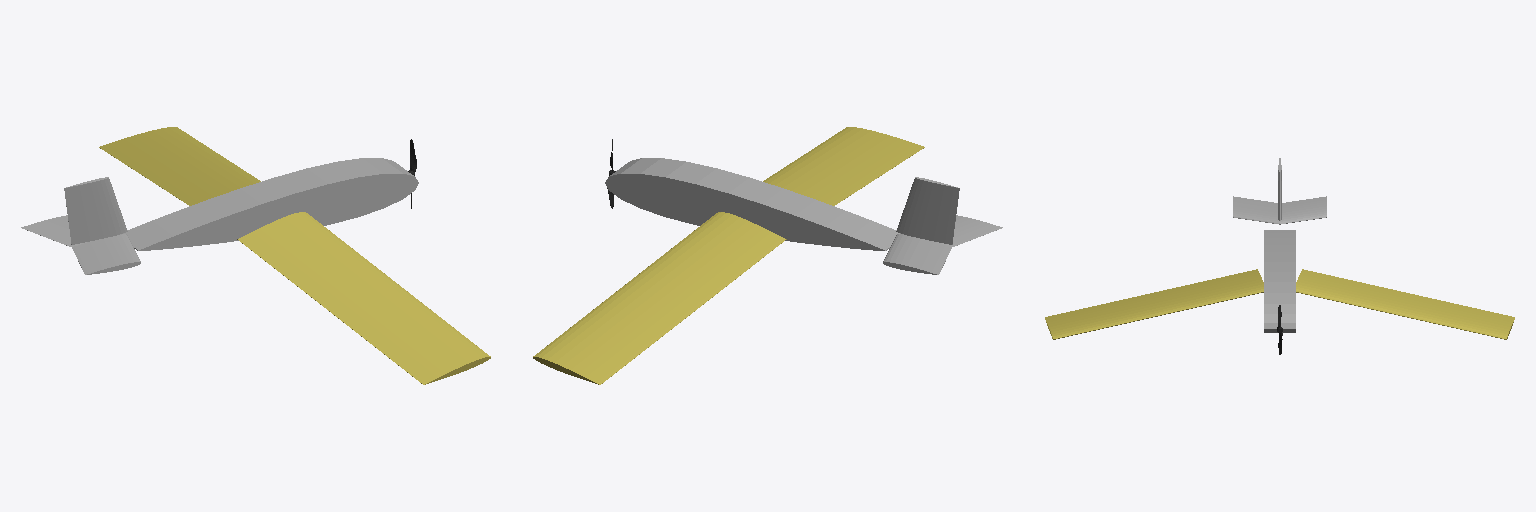
robot.urdf — drone_ea:
<robot name="drone_ea">
 <material name="grey">
  <color rgba="0.7 0.7 0.7 1" />
 </material>
 <material name="red">
  <color rgba="0.796078431372549 0.7490196078431373 0.37254901960784315 1" />
 </material>
 <material name="black">
  <color rgba="0.2 0.2 0.2 1" />
 </material>
 <link name="root_link">
  <inertial>
   <origin rpy="0 0 0" xyz="0 0 0" />
   <mass value="0" />
   <inertia ixx="0" ixy="0" ixz="0" iyy="0" iyz="0" izz="0" />
  </inertial>
 </link>
 <joint name="fixed_joint_base_fuselage" type="fixed">
  <parent link="root_link" />
  <child link="fuselage" />
  <origin rpy="3.141592653589793 0 0" xyz="0 0 0" />
 </joint>
 <link name="fuselage">
  <inertial>
   <origin rpy="0 0 0" xyz="-0.344 0 0" />
   <mass value="0.55" />
   <inertia ixx="0.00029015955" ixy="0" ixz="0" iyy="0.0074080147" iyz="0" izz="0.0074511885" />
  </inertial>
  <visual>
   <origin rpy="0 0 0" xyz="0 0 0" />
   <geometry>
    <mesh filename="package://ros_muav/meshes/fuselage0014_tail0009.stl" scale="0.001 0.001 0.001" />
   </geometry>
   <material name="grey" />
  </visual>
 </link>
 <joint name="fixed_joint_aero_frame_fuselage" type="fixed">
  <parent link="fuselage" />
  <child link="aero_frame_fuselage" />
  <origin rpy="0 3.141592653589793 0" xyz="-0.344 0 0" />
 </joint>
 <link name="aero_frame_fuselage" />
 <joint name="fixed_joint_right_wing" type="fixed">
  <parent link="fuselage" />
  <child link="fuselage_right_0" />
  <origin rpy="-0.17453292519943295 -0.06981317007977318 3.0019663134302466" xyz="-0.35 0.05 0.01" />
 </joint>
 <link name="fuselage_right_0">
  <inertial>
   <mass value="0.018" />
   <origin rpy="0 0 0" xyz="0 0 0" />
   <inertia ixx="2.1333333333333334e-06" ixy="0" ixz="0" iyy="2.1333333333333334e-06" iyz="0" izz="2.1333333333333334e-06" />
  </inertial>
 </link>
 <joint name="joint_0_sweep_right_wing" type="revolute">
  <parent link="fuselage_right_0" />
  <child link="fuselage_right_1" />
  <origin rpy="0 0 0" xyz="0 0 0" />
  <axis xyz="0 0 1" />
  <limit effort="0.26" lower="-0.5235987755982988" upper="0.5235987755982988" velocity="5.393067388662478" />
  <dynamics damping="1" friction="0" />
 </joint>
 <link name="fuselage_right_1">
  <inertial>
   <mass value="0.023" />
   <origin rpy="0 0 0" xyz="0 0 0" />
   <inertia ixx="2.7259259259259264e-06" ixy="0" ixz="0" iyy="2.7259259259259264e-06" iyz="0" izz="2.7259259259259264e-06" />
  </inertial>
 </link>
 <joint name="joint_1_twist_right_wing" type="revolute">
  <parent link="fuselage_right_1" />
  <child link="fuselage_right_2" />
  <origin rpy="0 0 0" xyz="0 0 0" />
  <axis xyz="0 1 0" />
  <limit effort="0.46" lower="-0.5235987755982988" upper="0.5235987755982988" velocity="3.4033920413889422" />
  <dynamics damping="1" friction="0" />
 </joint>
 <link name="fuselage_right_2">
  <inertial>
   <mass value="0" />
   <origin rpy="0 0 0" xyz="0 0 0" />
   <inertia ixx="0" ixy="0" ixz="0" iyy="0" iyz="0" izz="0" />
  </inertial>
 </link>
 <joint name="joint_2_fixed_right_wing" type="fixed">
  <parent link="fuselage_right_2" />
  <child link="right_wing" />
  <origin rpy="0 0 0" xyz="0 0 0" />
  <axis xyz="0 0 0" />
 </joint>
 <link name="right_wing">
  <inertial>
   <origin rpy="0 0 0" xyz="0.034436664 -0.35000000000000003 0" />
   <mass value="0.05185104357599042" />
   <inertia ixx="0.0021182021866224007" ixy="0" ixz="0" iyy="0.00011484602924630402" iyz="0" izz="0.002231145645653761" />
  </inertial>
  <visual>
   <origin rpy="0 0 0" xyz="0 0 0" />
   <geometry>
    <mesh filename="package://ros_muav/meshes/wing0009.stl" scale="0.2 0.7000000000000001 0.2" />
   </geometry>
   <material name="red" />
  </visual>
 </link>
 <joint name="fixed_joint_aero_frame_right_wing" type="fixed">
  <parent link="right_wing" />
  <child link="aero_frame_right_wing" />
  <origin rpy="3.141592653589793 0 0" xyz="0.034436664 -0.35000000000000003 0" />
 </joint>
 <link name="aero_frame_right_wing" />
 <joint name="fixed_joint_left_wing" type="fixed">
  <parent link="fuselage" />
  <child link="fuselage_left_0" />
  <origin rpy="0.17453292519943295 3.2114058236695664 0.13962634015954636" xyz="-0.35 -0.05 0.01" />
 </joint>
 <link name="fuselage_left_0">
  <inertial>
   <mass value="0.018" />
   <origin rpy="0 0 0" xyz="0 0 0" />
   <inertia ixx="2.1333333333333334e-06" ixy="0" ixz="0" iyy="2.1333333333333334e-06" iyz="0" izz="2.1333333333333334e-06" />
  </inertial>
 </link>
 <joint name="joint_0_sweep_left_wing" type="revolute">
  <parent link="fuselage_left_0" />
  <child link="fuselage_left_1" />
  <origin rpy="0 0 0" xyz="0 0 0" />
  <axis xyz="0 0 1" />
  <limit effort="0.26" lower="-0.5235987755982988" upper="0.5235987755982988" velocity="5.393067388662478" />
  <dynamics damping="1" friction="0" />
 </joint>
 <link name="fuselage_left_1">
  <inertial>
   <mass value="0.023" />
   <origin rpy="0 0 0" xyz="0 0 0" />
   <inertia ixx="2.7259259259259264e-06" ixy="0" ixz="0" iyy="2.7259259259259264e-06" iyz="0" izz="2.7259259259259264e-06" />
  </inertial>
 </link>
 <joint name="joint_1_twist_left_wing" type="revolute">
  <parent link="fuselage_left_1" />
  <child link="fuselage_left_2" />
  <origin rpy="0 0 0" xyz="0 0 0" />
  <axis xyz="0 -1 0" />
  <limit effort="0.46" lower="-0.5235987755982988" upper="0.5235987755982988" velocity="3.4033920413889422" />
  <dynamics damping="1" friction="0" />
 </joint>
 <link name="fuselage_left_2">
  <inertial>
   <mass value="0" />
   <origin rpy="0 0 0" xyz="0 0 0" />
   <inertia ixx="0" ixy="0" ixz="0" iyy="0" iyz="0" izz="0" />
  </inertial>
 </link>
 <joint name="joint_2_fixed_left_wing" type="fixed">
  <parent link="fuselage_left_2" />
  <child link="left_wing" />
  <origin rpy="0 0 0" xyz="0 0 0" />
  <axis xyz="0 0 0" />
 </joint>
 <link name="left_wing">
  <inertial>
   <origin rpy="0 0 0" xyz="0.034436664 -0.35000000000000003 0" />
   <mass value="0.05185104357599042" />
   <inertia ixx="0.0021182021866224007" ixy="0" ixz="0" iyy="0.00011484602924630402" iyz="0" izz="0.002231145645653761" />
  </inertial>
  <visual>
   <origin rpy="0 0 0" xyz="0 0 0" />
   <geometry>
    <mesh filename="package://ros_muav/meshes/wing0009.stl" scale="0.2 0.7000000000000001 0.2" />
   </geometry>
   <material name="red" />
  </visual>
 </link>
 <joint name="fixed_joint_aero_frame_left_wing" type="fixed">
  <parent link="left_wing" />
  <child link="aero_frame_left_wing" />
  <origin rpy="0 0 0" xyz="0.034436664 -0.35000000000000003 0" />
 </joint>
 <link name="aero_frame_left_wing" />
 <joint name="fixed_joint_collision_0" type="fixed">
  <parent link="fuselage" />
  <child link="collision_frame_0" />
  <origin rpy="0 0 0" xyz="0 0 0" />
 </joint>
 <link name="collision_frame_0" />
 <joint name="fixed_joint_collision_1" type="fixed">
  <parent link="fuselage" />
  <child link="collision_frame_1" />
  <origin rpy="0 0 0" xyz="-0.75 0 0" />
 </joint>
 <link name="collision_frame_1" />
 <joint name="fixed_joint_collision_2" type="fixed">
  <parent link="right_wing" />
  <child link="collision_frame_2" />
  <origin rpy="0 0 0" xyz="0.15000000000000002 -0.7000000000000001 0" />
 </joint>
 <link name="collision_frame_2" />
 <joint name="fixed_joint_collision_3" type="fixed">
  <parent link="right_wing" />
  <child link="collision_frame_3" />
  <origin rpy="0 0 0" xyz="-0.05 -0.7000000000000001 0" />
 </joint>
 <link name="collision_frame_3" />
 <joint name="fixed_joint_collision_4" type="fixed">
  <parent link="left_wing" />
  <child link="collision_frame_4" />
  <origin rpy="0 0 0" xyz="0.15000000000000002 -0.7000000000000001 0" />
 </joint>
 <link name="collision_frame_4" />
 <joint name="fixed_joint_collision_5" type="fixed">
  <parent link="left_wing" />
  <child link="collision_frame_5" />
  <origin rpy="0 0 0" xyz="-0.05 -0.7000000000000001 0" />
 </joint>
 <link name="collision_frame_5" />
 <joint name="fixed_joint_prop_frame_fuselage_0" type="fixed">
  <parent link="fuselage" />
  <child link="prop_frame_fuselage_0" />
  <origin rpy="3.141592653589793 -1.5707963267948966 0" xyz="0 0 0" />
 </joint>
 <link name="prop_frame_fuselage_0">
  <inertial>
   <mass value="0.031" />
   <origin rpy="0 0 0" xyz="0 0 0" />
   <inertia ixx="3.7625e-05" ixy="0" ixz="0" iyy="3.7625e-05" iyz="0" izz="7.5e-05" />
  </inertial>
  <visual>
   <origin rpy="0 0 0" xyz="0 0 0" />
   <geometry>
    <mesh filename="package://ros_muav/meshes/propeller.stl" scale="0.001 0.001 0.001" />
   </geometry>
   <material name="black" />
  </visual>
 </link>
</robot>

--- Facts derived from the render (not from the file) ---
Views: 3 orthographic renders of the robot side by side, from view 1: azimuth 30°, elevation 25°; view 2: azimuth 150°, elevation 25°; view 3: azimuth 270°, elevation 25°.
Robot: drone_ea — 20 links, 19 joints (4 revolute, 15 fixed); root link root_link; default pose: every joint at zero.
Visible links, largest first — view 1: fuselage, right_wing, left_wing; view 2: fuselage, left_wing, right_wing; view 3: fuselage, right_wing, left_wing.
Link boxes in pixels (box(x1,y1,x2,y2)): fuselage: box(21, 158, 418, 274); right_wing: box(237, 212, 490, 384); left_wing: box(99, 127, 260, 205); fuselage: box(605, 158, 1002, 274); left_wing: box(533, 212, 786, 384); right_wing: box(763, 127, 924, 205); fuselage: box(1233, 158, 1326, 332); right_wing: box(1045, 269, 1263, 339); left_wing: box(1296, 269, 1514, 339).
Size in the robot's own frame: 0.9695 by 1.5 by 0.3229 metres.
4 mesh visuals loaded from 3 distinct referenced files (3 binary STL).
